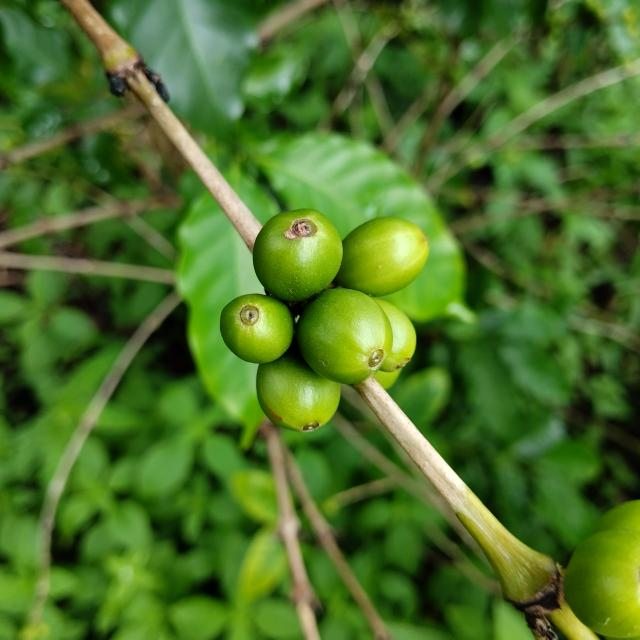green: (296, 288, 393, 384), (253, 208, 343, 301), (565, 530, 640, 639), (335, 216, 430, 296), (256, 351, 341, 432), (220, 294, 294, 364), (372, 298, 417, 372), (595, 501, 640, 534), (374, 369, 402, 390)
